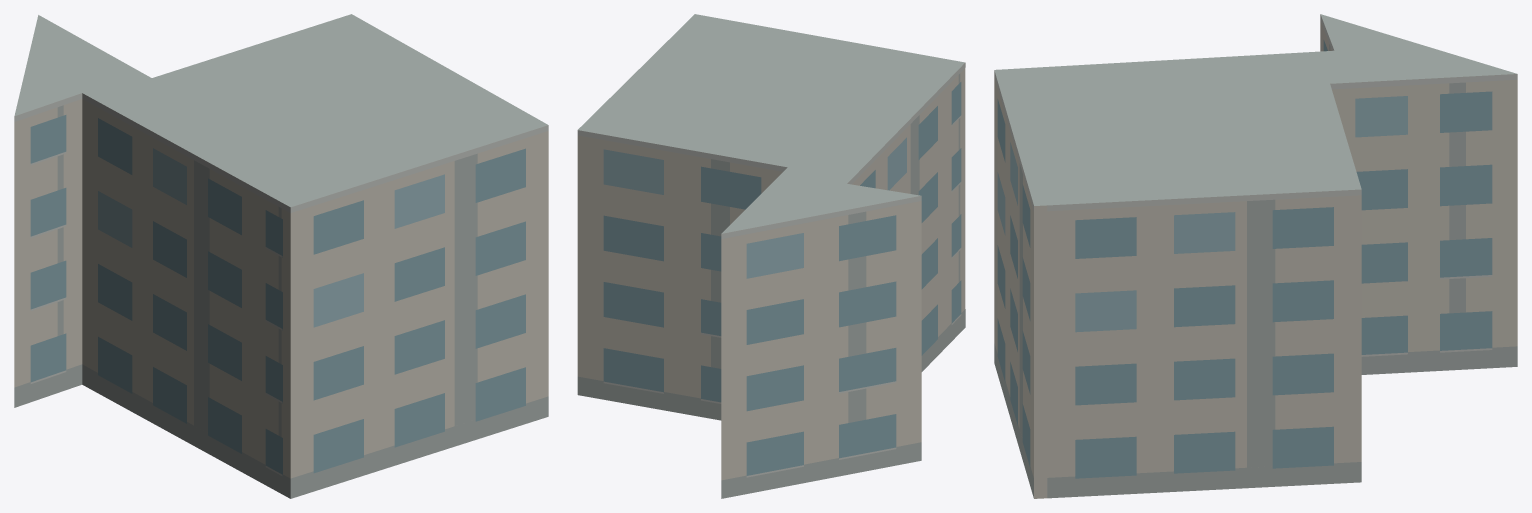
File: survey-upis-32572231.glb
3 views of the same model, side by side, from view 1: azimuth 30°, elevation 25°; view 2: azimuth 150°, elevation 25°; view 3: azimuth 270°, elevation 25° (orthographic). The views are drawn at different scales.
Parts seen in each view (by area): view 1: survey-upis-32572231.tmp; view 2: survey-upis-32572231.tmp; view 3: survey-upis-32572231.tmp.
Part boxes in pixels (x1=…): survey-upis-32572231.tmp: x1=14, y1=14, x2=548, y2=498; survey-upis-32572231.tmp: x1=577, y1=14, x2=965, y2=498; survey-upis-32572231.tmp: x1=994, y1=14, x2=1517, y2=498.
Bounding box in the file's own units: 17.16 × 12.2 × 19.77.
